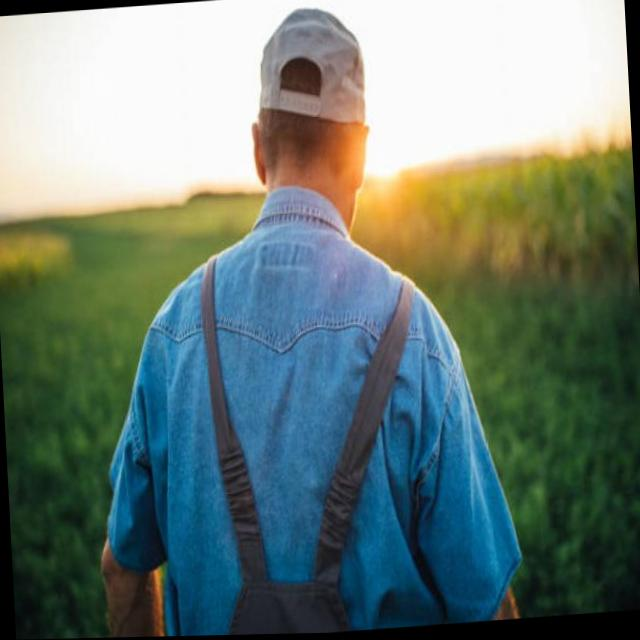no helmet: (230, 0, 389, 231)
